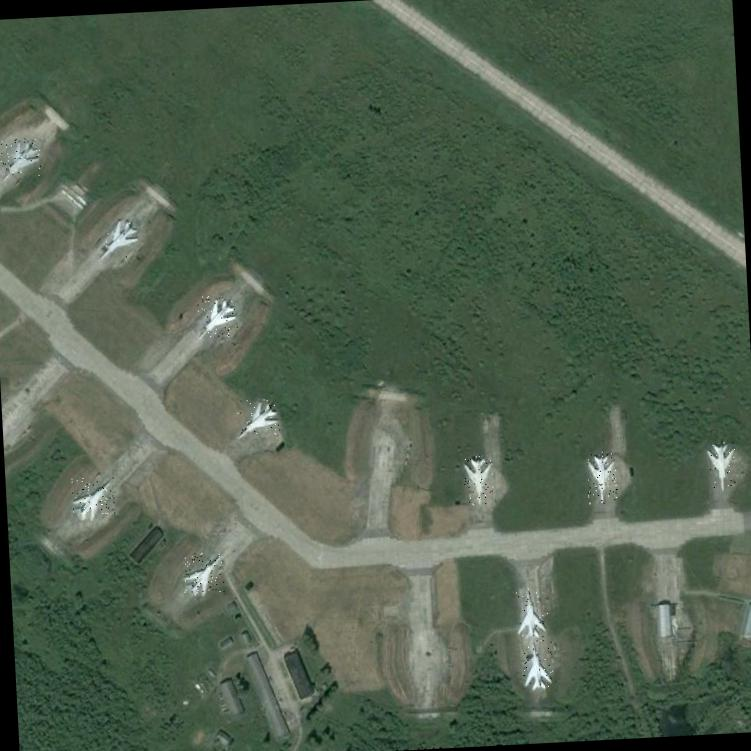A12: (96, 216, 140, 262), (513, 586, 549, 640), (71, 476, 115, 520), (182, 551, 225, 596), (235, 397, 281, 438), (197, 294, 238, 338), (0, 136, 41, 180), (585, 451, 618, 504), (521, 638, 554, 690), (462, 454, 495, 506), (707, 442, 738, 492)
